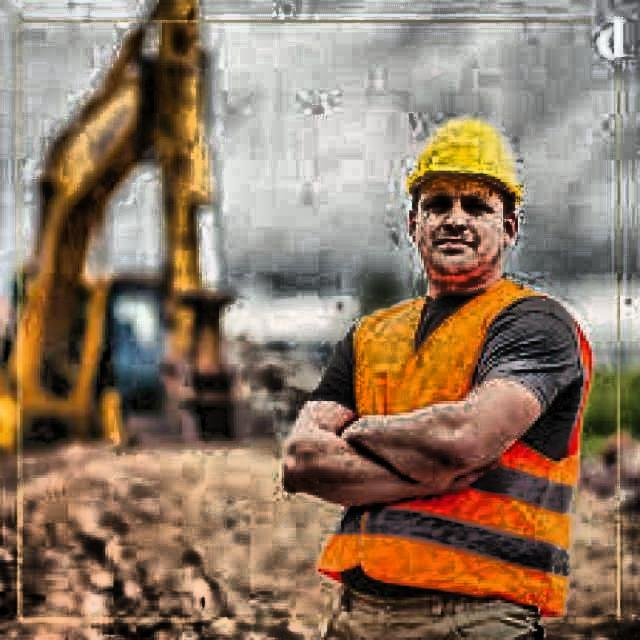bull_dozer/loader/grader: (0, 0, 239, 454)
person: (280, 119, 594, 640)
